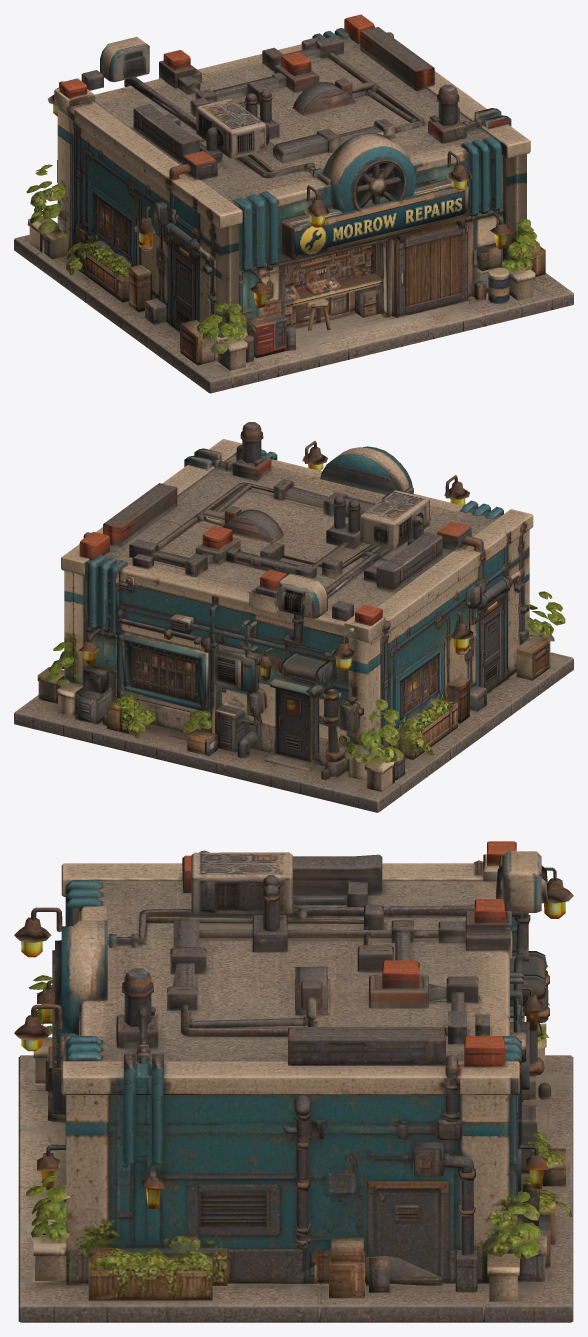
The model's file is repair-shop.glb.
3 renders of one model, top to bottom at view 1: azimuth 30°, elevation 25°; view 2: azimuth 150°, elevation 25°; view 3: azimuth 270°, elevation 25°, orthographic. The views are drawn at different scales.
Parts seen in each view (by area): view 1: tripo_node_d5405a42-04e9-4a9e-b6d5-33db77854b8e; view 2: tripo_node_d5405a42-04e9-4a9e-b6d5-33db77854b8e; view 3: tripo_node_d5405a42-04e9-4a9e-b6d5-33db77854b8e.
Boxes of the visible parts, bbox=[...] form: tripo_node_d5405a42-04e9-4a9e-b6d5-33db77854b8e: bbox=[14, 14, 573, 393]; tripo_node_d5405a42-04e9-4a9e-b6d5-33db77854b8e: bbox=[14, 422, 573, 812]; tripo_node_d5405a42-04e9-4a9e-b6d5-33db77854b8e: bbox=[14, 841, 573, 1322].
Bounding box in the file's own units: 0.9995 × 0.5435 × 0.938.
Materials: 1 (1 with a texture image).
